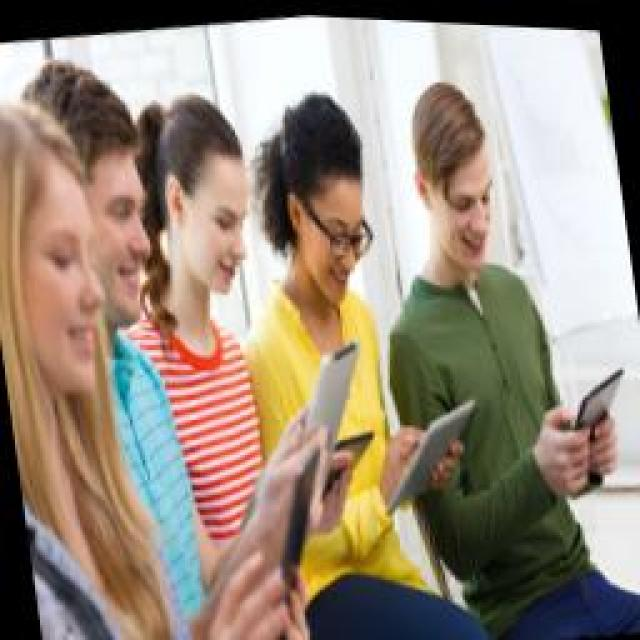phone: (28, 20, 390, 638), (0, 60, 342, 640), (357, 57, 640, 582), (210, 65, 495, 580), (127, 67, 385, 555)
